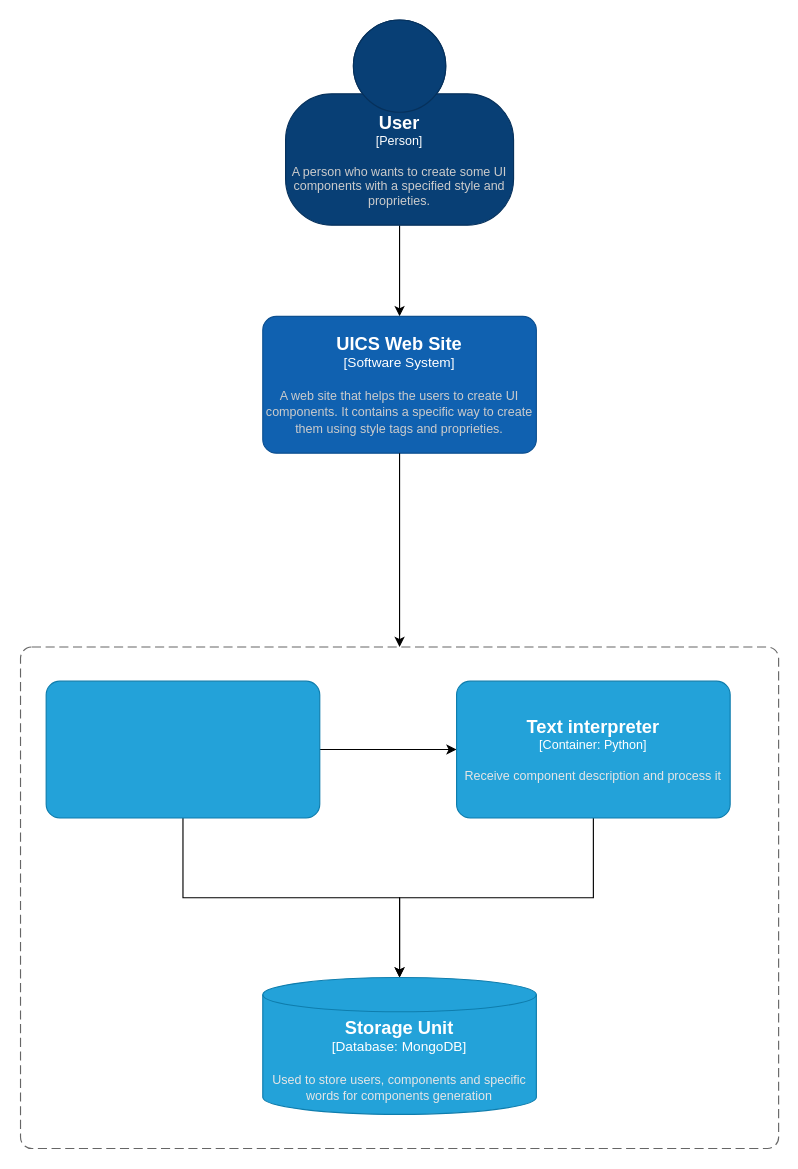
The diagram is 798 pixels wide and 1169 high, and some of its shapes have lost their labels. The box of each missing label's shape, as (x1, y1, x2, y2) in pixels:
API System [Container: Python] Manage http requests: (45, 680, 320, 818)
UICS Backend [Software System]: (19, 646, 779, 1149)
